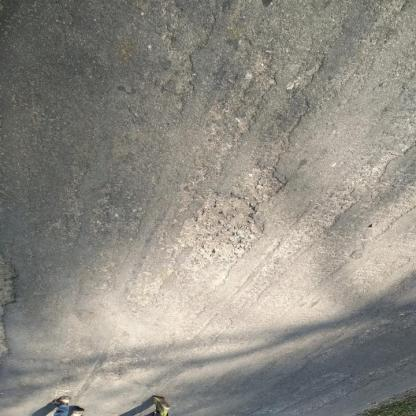pothole: (175, 195, 264, 262), (247, 169, 288, 202)
